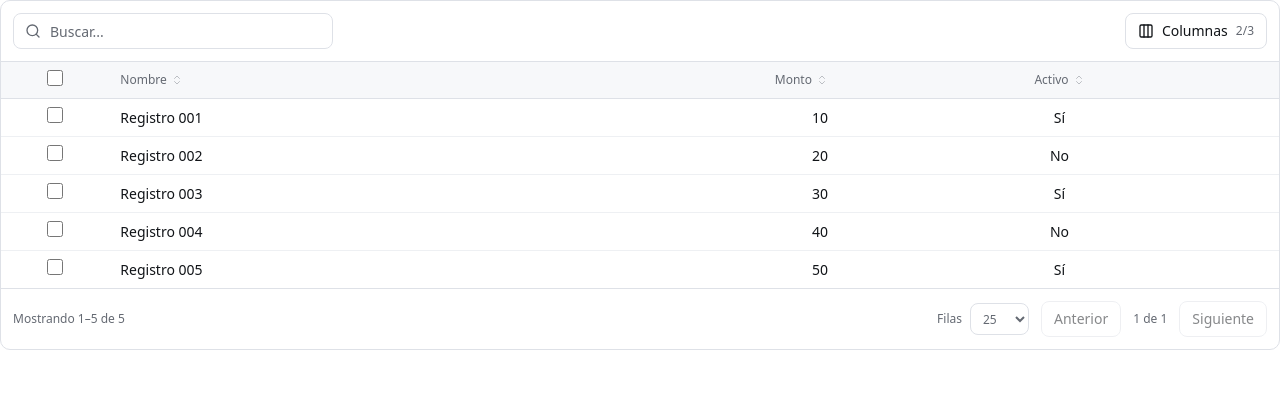
Scenario: Selección de filas › informa varias filas en plural
Click the checkbox named "Seleccionar fila" next to "Registro 001" at {"x": 55, "y": 115}, box [47,107,63,123]
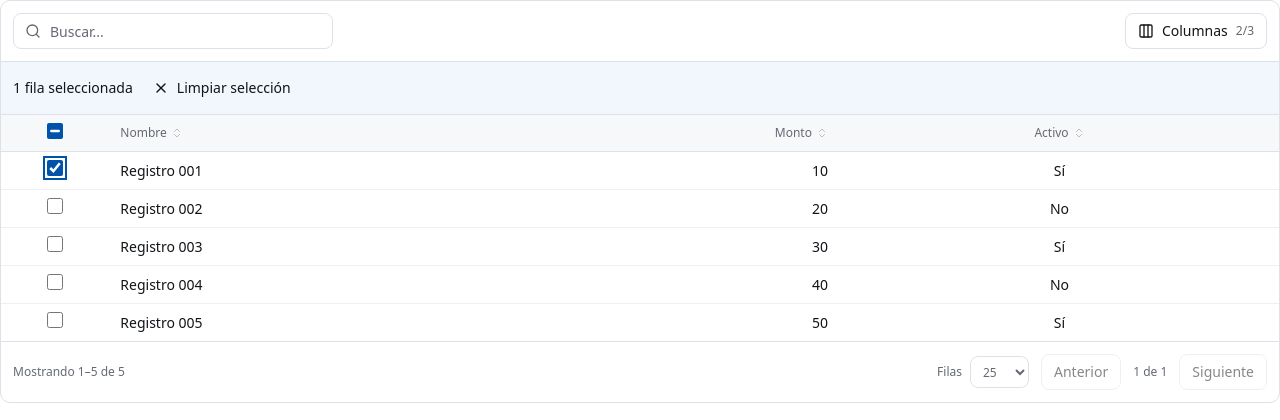
Click the checkbox named "Seleccionar fila" next to "Registro 002" at {"x": 55, "y": 206}, box [47,198,63,214]
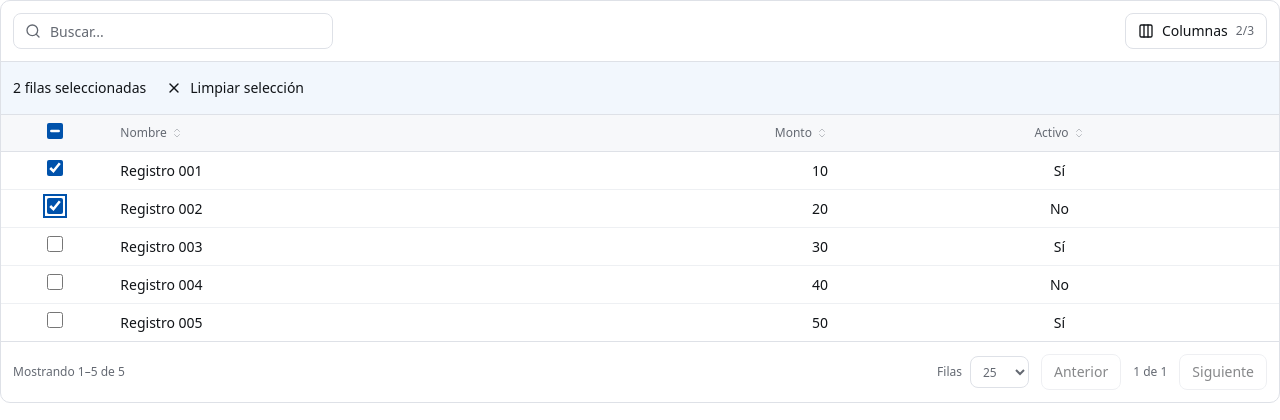
Now the text "2 filas seleccionadas" is shown, box [13,78,146,98]
